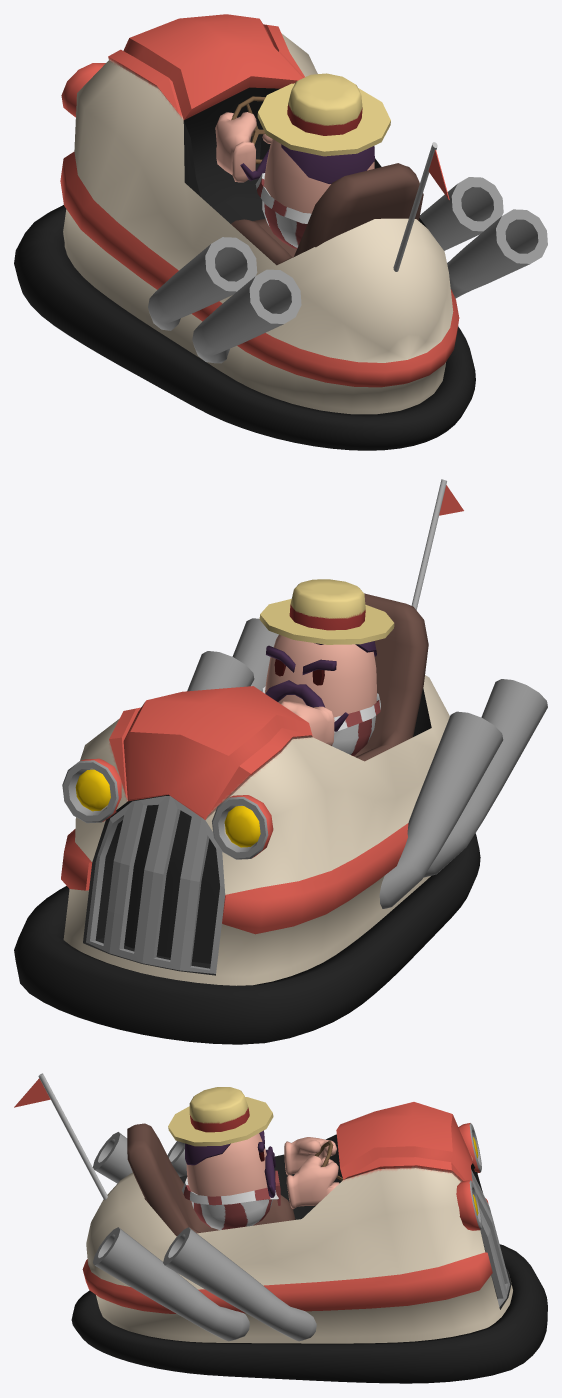
File: bumper_01 (1).FBX
3 views of the same model, one above another, from view 1: azimuth 30°, elevation 25°; view 2: azimuth 150°, elevation 25°; view 3: azimuth 270°, elevation 25° (orthographic). The views are drawn at different scales.
Visible parts, largest first — view 1: msh_bumper_haul_01, msh_boing_002, msh_hat_007, msh_chair_01, msh_pipes_006, msh_pipes_005, msh_pipes_01, msh_pipes_004, msh_potato_01, msh_hand_005, msh_hair_01, msh_shirt_01 (+2 smaller); view 2: msh_bumper_haul_01, msh_boing_002, msh_grid_002, msh_pipes_005, msh_chair_01, msh_hat_007, msh_pipes_006, msh_potato_01, msh_light_00, msh_light_01, msh_pipes_004, msh_pipes_01 (+4 smaller); view 3: msh_bumper_haul_01, msh_boing_002, msh_pipes_01, msh_pipes_004, msh_chair_01, msh_hat_007, msh_potato_01, msh_shirt_01, msh_hand_002, msh_grid_002, msh_pipes_006, msh_flag_01 (+6 smaller).
Part boxes in pixels (box(x1,y1,x2,y2)): msh_bumper_haul_01: box(60, 14, 459, 414); msh_boing_002: box(14, 205, 475, 450); msh_hat_007: box(257, 73, 390, 156); msh_chair_01: box(231, 163, 423, 265); msh_pipes_006: box(192, 269, 301, 363); msh_pipes_005: box(148, 237, 257, 330); msh_pipes_01: box(447, 209, 547, 298); msh_pipes_004: box(419, 177, 503, 250); msh_potato_01: box(264, 139, 374, 213); msh_hand_005: box(215, 112, 256, 182); msh_hair_01: box(281, 144, 374, 183); msh_shirt_01: box(255, 173, 311, 248); msh_bumper_haul_01: box(61, 675, 449, 985); msh_boing_002: box(14, 833, 480, 1044); msh_grid_002: box(86, 796, 225, 973); msh_pipes_005: box(379, 711, 503, 908); msh_chair_01: box(354, 593, 428, 761); msh_hat_007: box(259, 579, 394, 644); msh_pipes_006: box(423, 679, 547, 877); msh_potato_01: box(265, 634, 376, 717); msh_light_00: box(212, 795, 273, 859); msh_light_01: box(62, 758, 121, 823); msh_pipes_004: box(187, 651, 254, 691); msh_pipes_01: box(232, 618, 278, 690); msh_bumper_haul_01: box(82, 1102, 512, 1343); msh_boing_002: box(71, 1244, 547, 1383); msh_pipes_01: box(93, 1227, 249, 1341); msh_pipes_004: box(163, 1227, 316, 1341); msh_chair_01: box(127, 1123, 295, 1236); msh_hat_007: box(168, 1087, 273, 1146); msh_potato_01: box(186, 1133, 267, 1196); msh_shirt_01: box(182, 1177, 278, 1230); msh_hand_002: box(286, 1156, 339, 1209); msh_grid_002: box(471, 1170, 509, 1306); msh_pipes_006: box(92, 1132, 132, 1183); msh_flag_01: box(14, 1073, 107, 1200).
Bounding box in the file's own units: 323 × 318 × 597.
